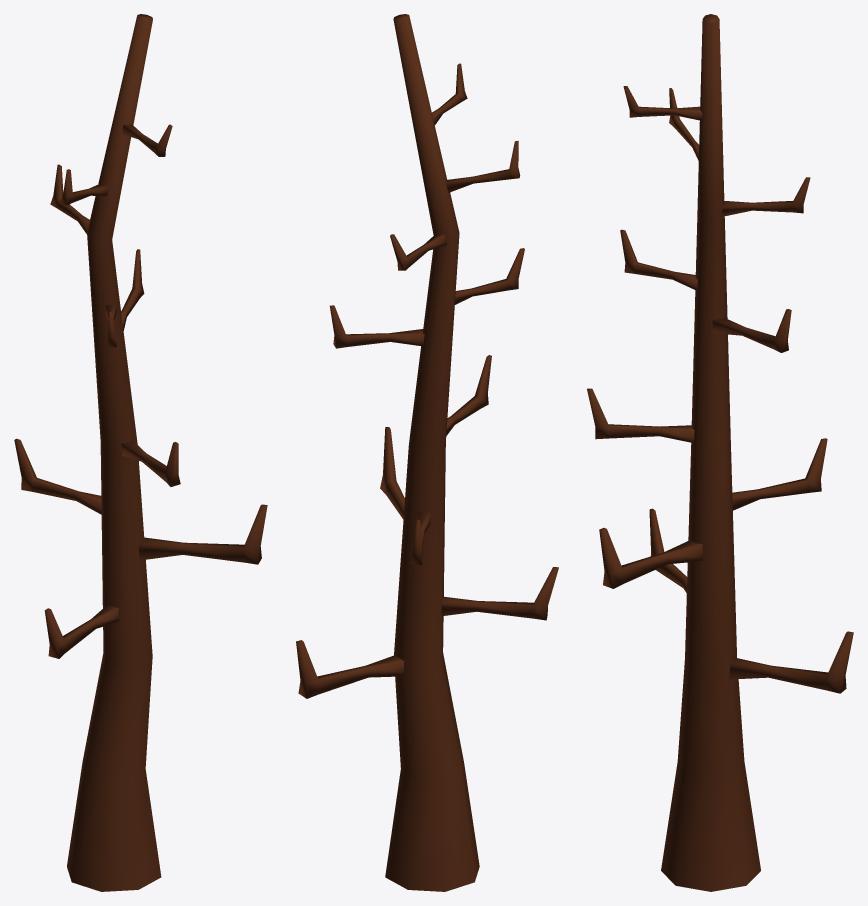
The model's file is ArbolSecoB.fbx.
3 renders of one model, left to right at view 1: azimuth 30°, elevation 25°; view 2: azimuth 150°, elevation 25°; view 3: azimuth 270°, elevation 25°, orthographic. The views are drawn at different scales.
Visible parts, largest first — view 1: ArbolSecoB; view 2: ArbolSecoB; view 3: ArbolSecoB.
Part boxes in pixels (x1,y1,x2,y2): ArbolSecoB: (14,14,267,891); ArbolSecoB: (296,14,558,891); ArbolSecoB: (587,14,853,891).
Size of the model in its own units: 107 by 437 by 122.
